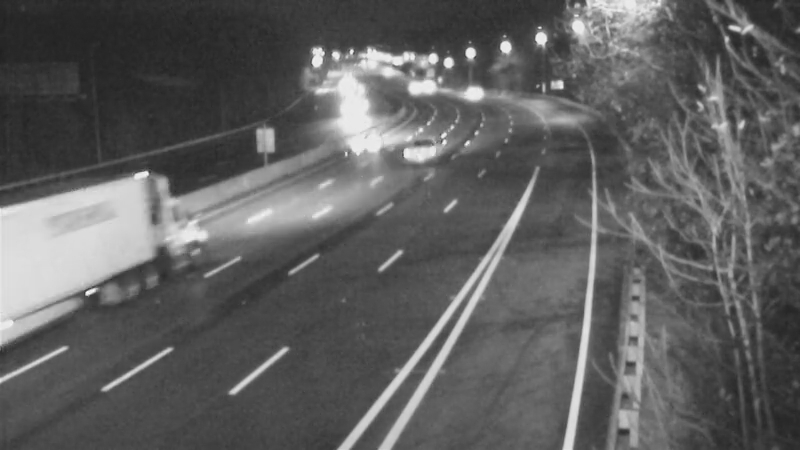vehicle: (57, 204, 137, 284), (390, 63, 440, 113), (454, 68, 504, 118), (396, 124, 446, 174), (340, 115, 390, 165), (329, 88, 379, 138)
